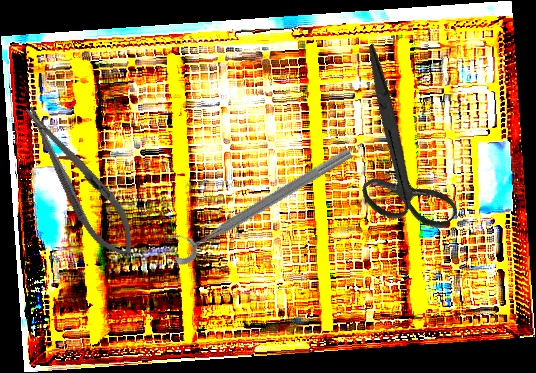Fixation Ring: (162, 132, 357, 269)
Iris Scissors: (289, 41, 506, 254)
Needle Holder: (10, 94, 149, 270)
